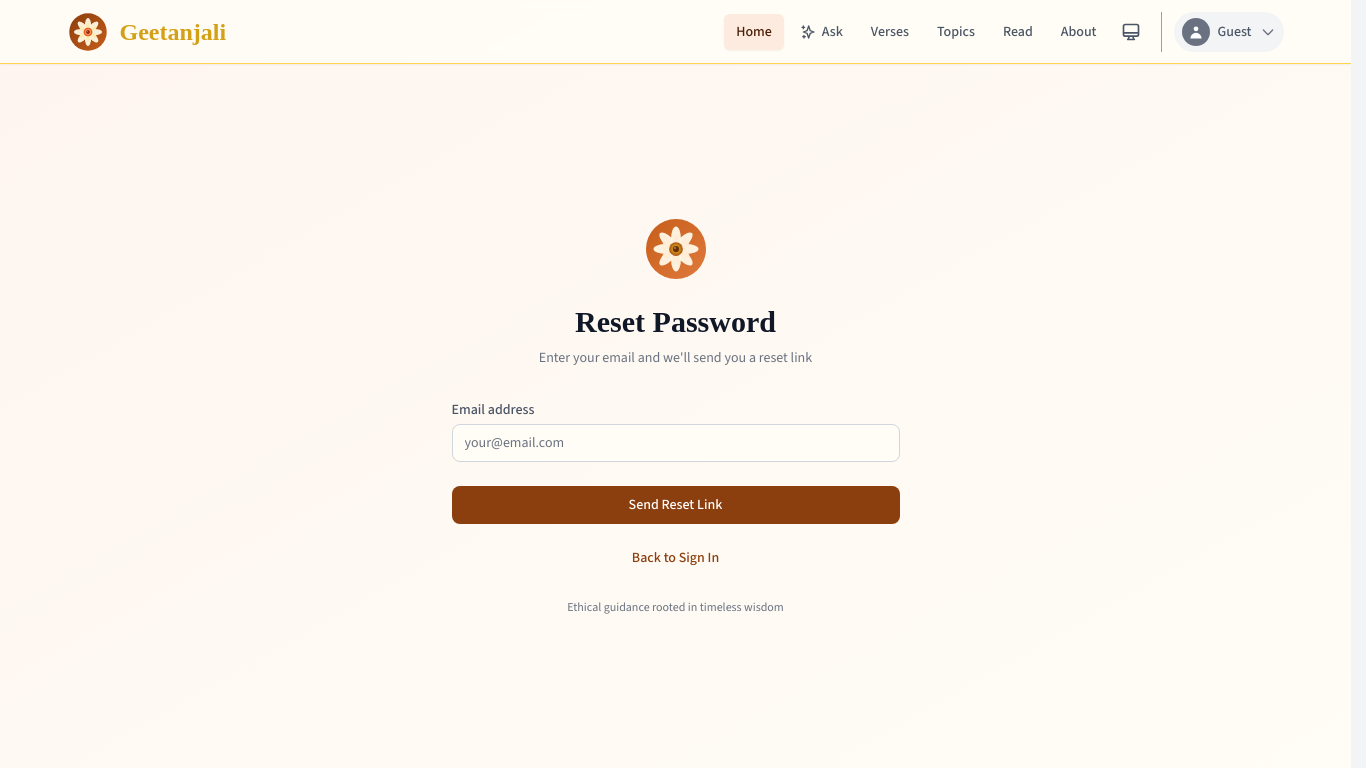
Test: ForgotPassword Page › should disable button while loading
This screenshot has width=1366, height=768.
Type "test@example.com" into the field labelled "Email address" at (676, 442), box [452,424,900,462]
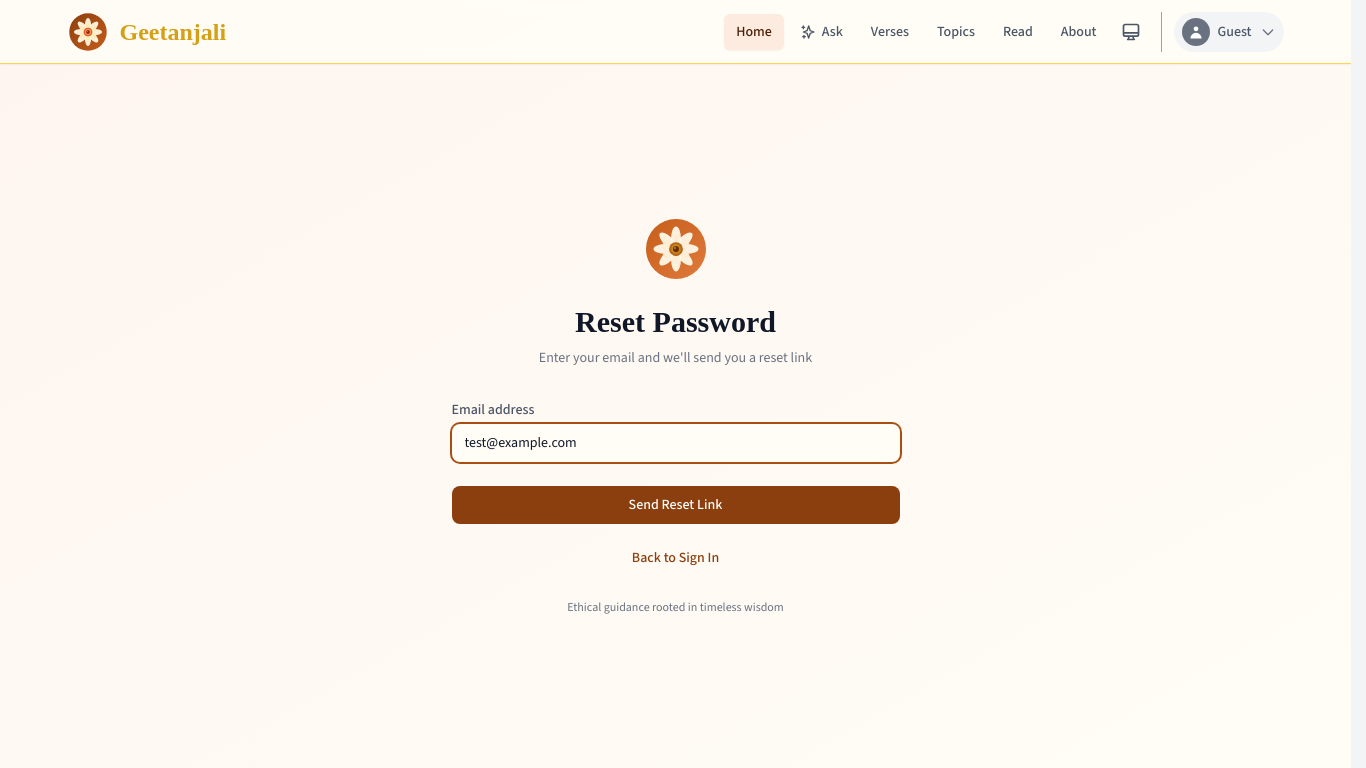
Click the button "Send Reset Link" at (676, 504), box [452,486,900,524]
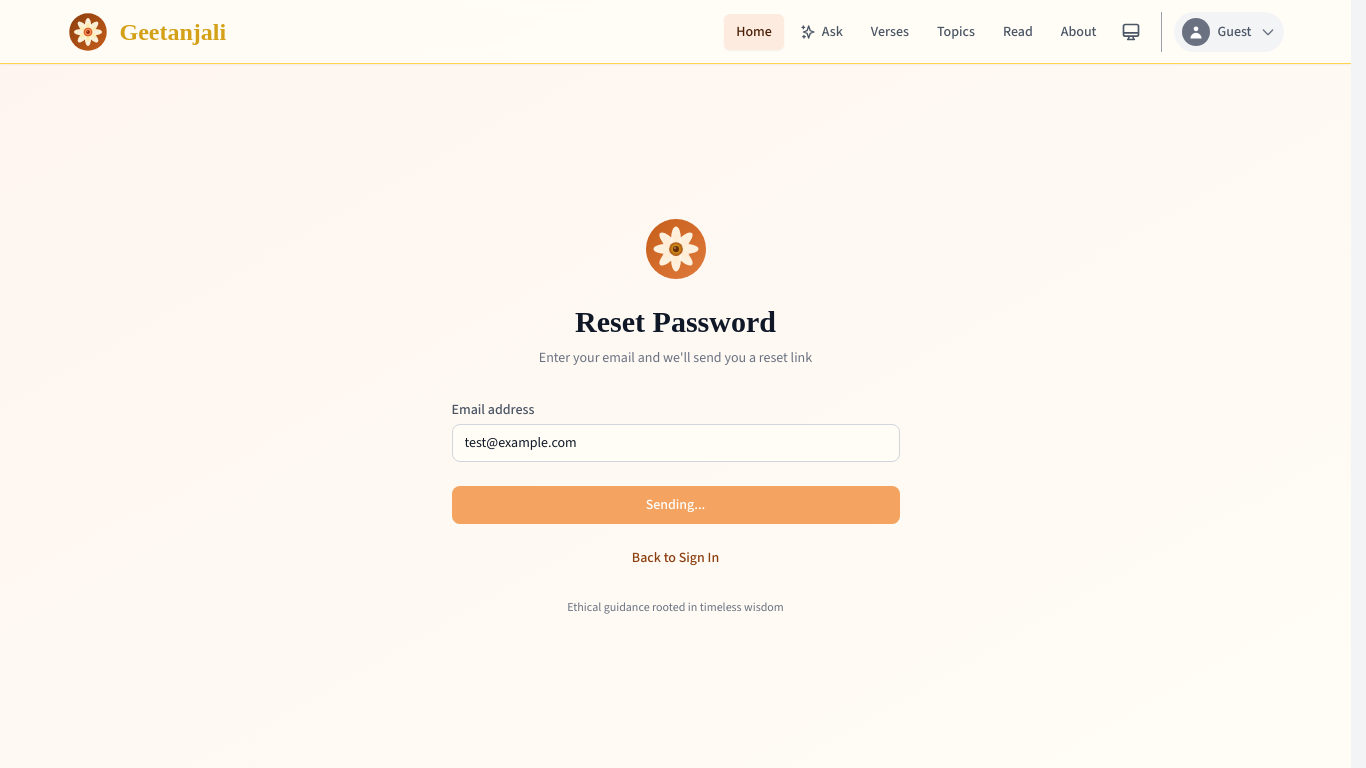
Now the button "Sending..." is disabled, box [452,486,900,524]
